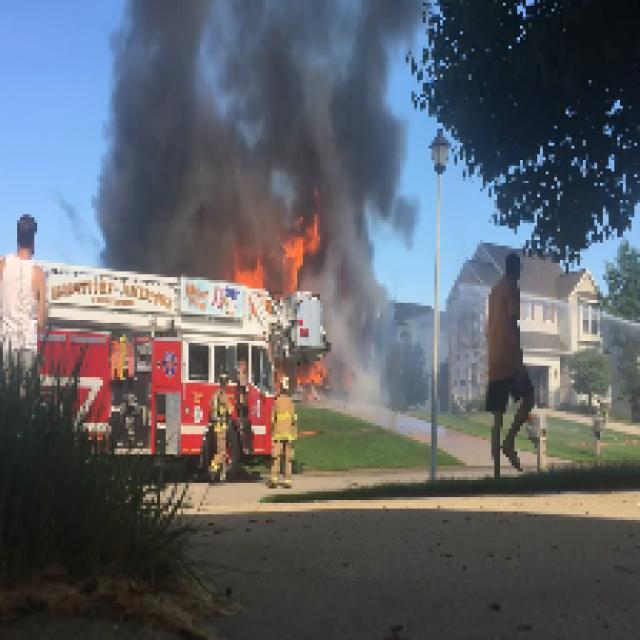Fire: (283, 211, 320, 283)
Smoke: (91, 2, 238, 248), (240, 3, 423, 186), (332, 188, 414, 394)
